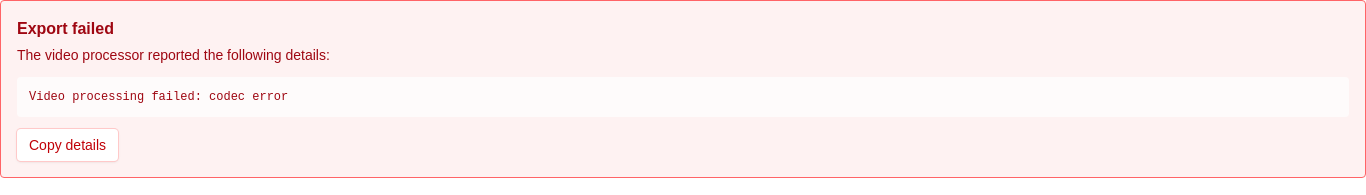
ExportErrorDetails › renders diagnostic text and supports copying it
Expected: the text "Export failed" is shown, [17, 20, 114, 37]
Expected: the text with test id "export-error-details" shows "codec error", [29, 90, 288, 104]
Click the button "Copy details" at (68, 145), box [17, 129, 118, 161]
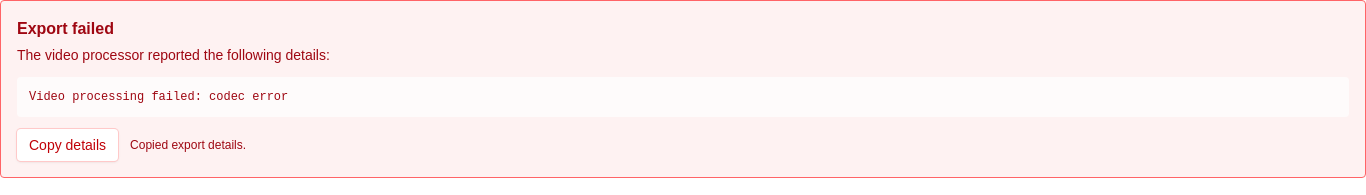
Expected: the message reads "Copied export details.", [130, 138, 246, 152]
